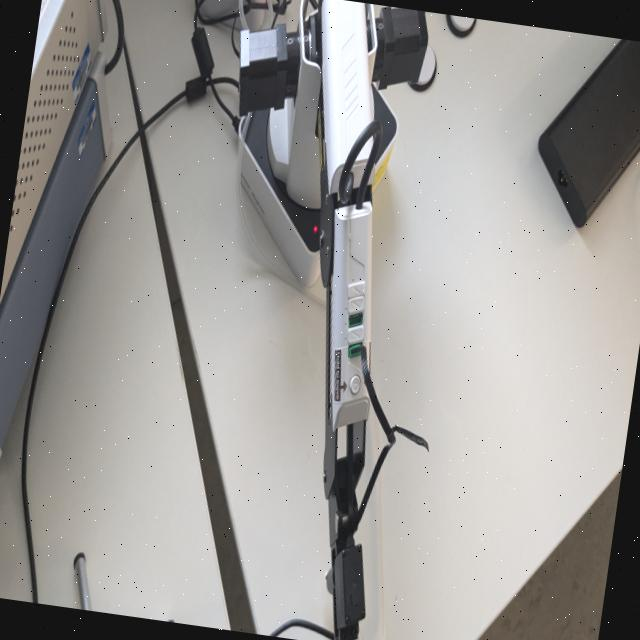Robot-end-effector-HF8z: (312, 535, 379, 640)
